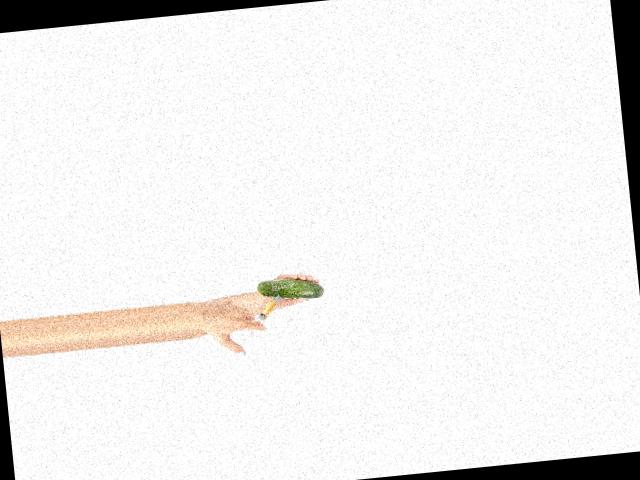cucumber: (257, 275, 325, 303)
